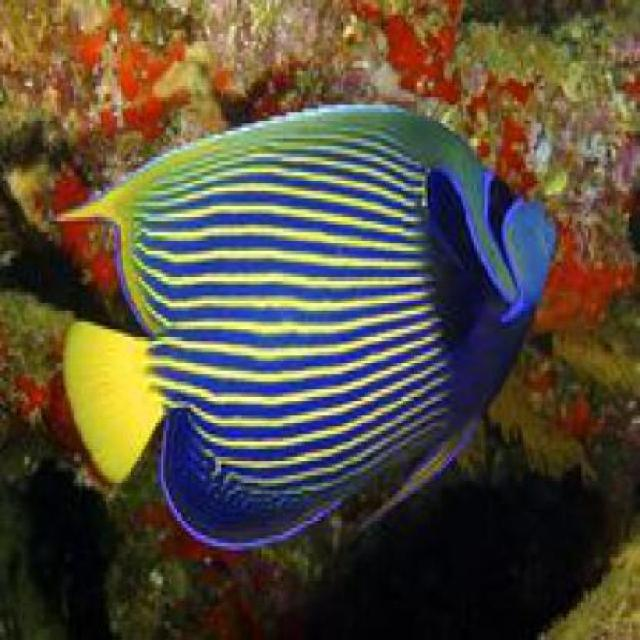AngelFish: (55, 102, 561, 548)
